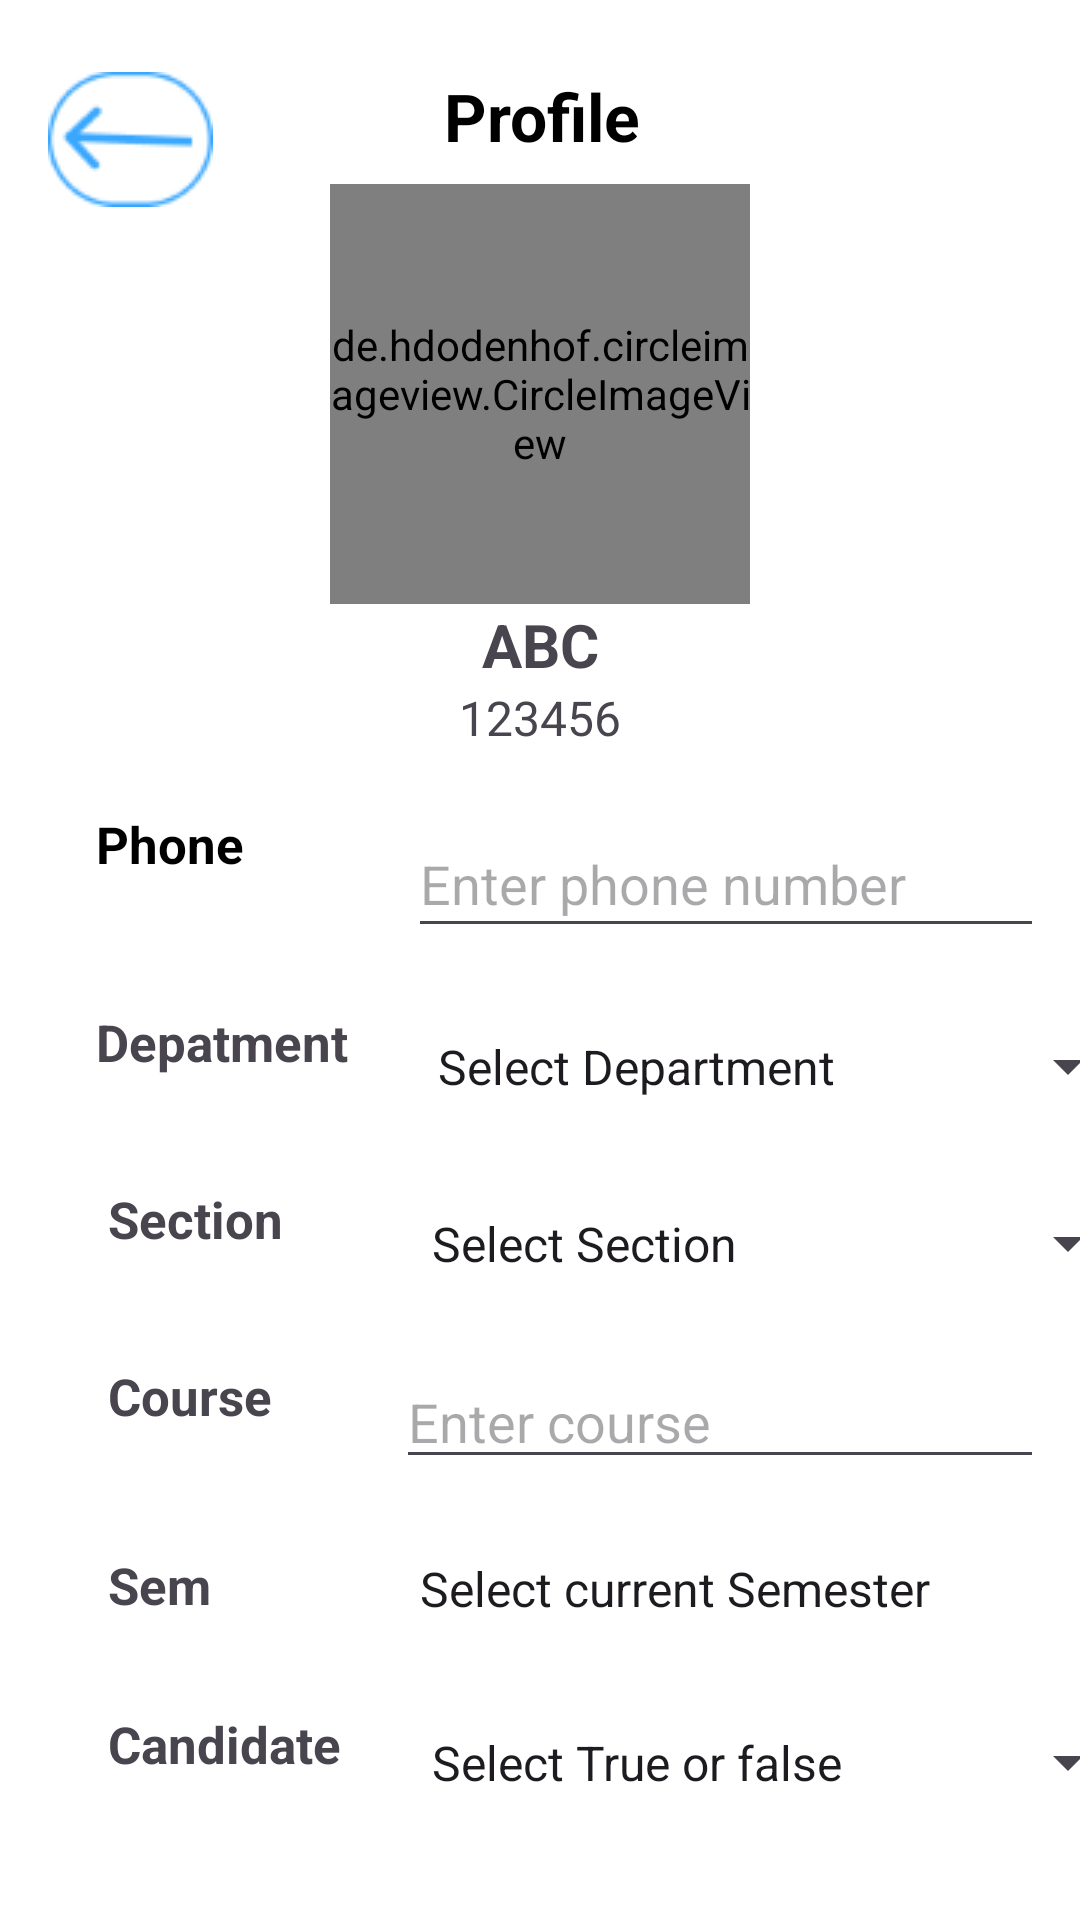

Named icons in this screenshot (1080 x 1920) and their bounding boxes, [left=x1, top=y1, right=x2, bottom=y2]:
Back: [left=48, top=72, right=213, bottom=207]
